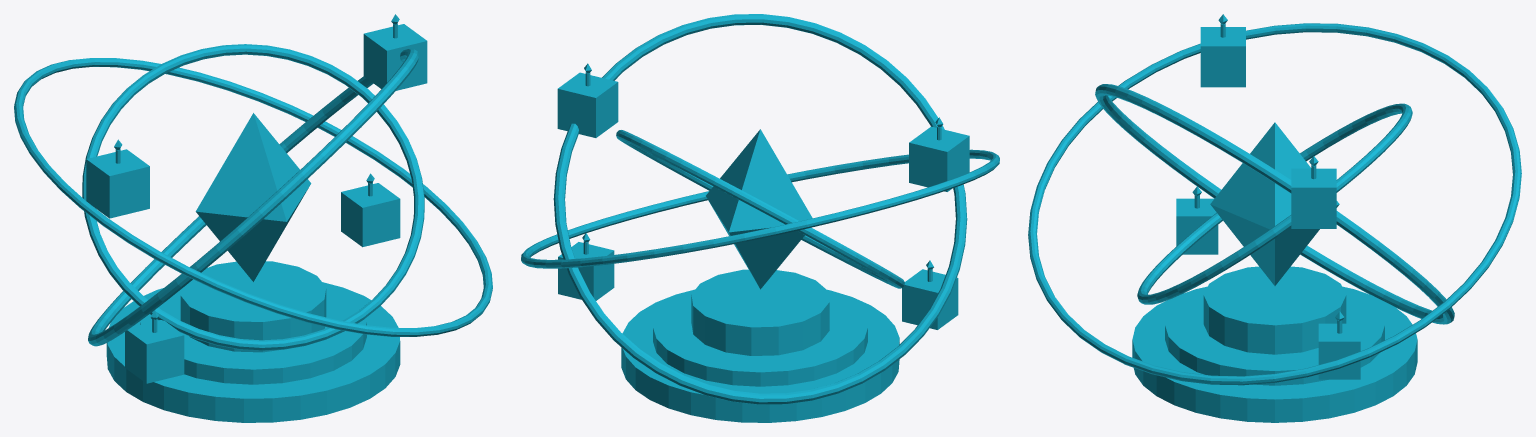
File: ai-core.obj
3 renders of one model, left to right at view 1: azimuth 30°, elevation 25°; view 2: azimuth 150°, elevation 25°; view 3: azimuth 270°, elevation 25°, orthographic. The views are drawn at different scales.
Visible parts, largest first — view 1: AICore; view 2: AICore; view 3: AICore.
Boxes of the visible parts, x1=… form: AICore: x1=14, y1=14, x2=492, y2=422; AICore: x1=521, y1=14, x2=999, y2=422; AICore: x1=1028, y1=14, x2=1521, y2=422.
Size of the model in its own units: 7.28 by 5.05 by 7.62.
